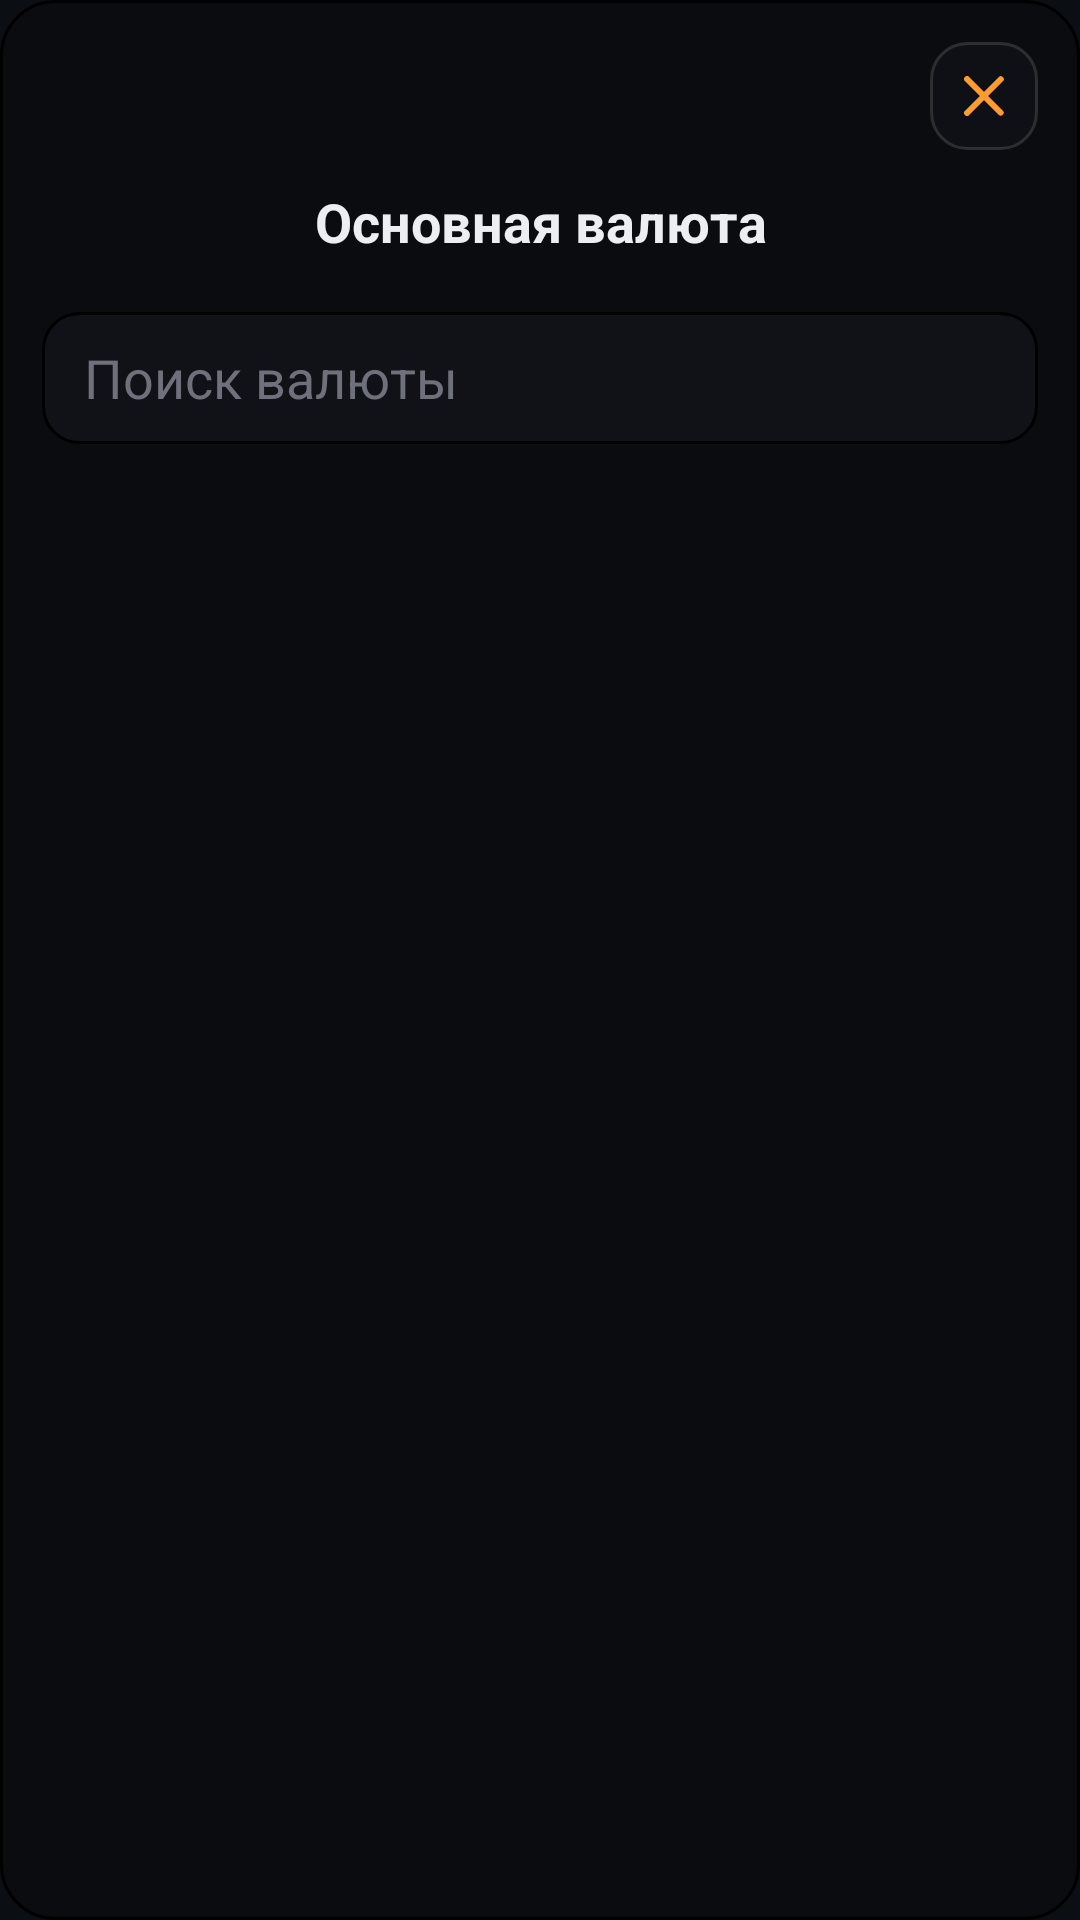

Named icons in this screenshot (1080px x 1920px) and their centers, [x,y]:
Close: [984,96]
